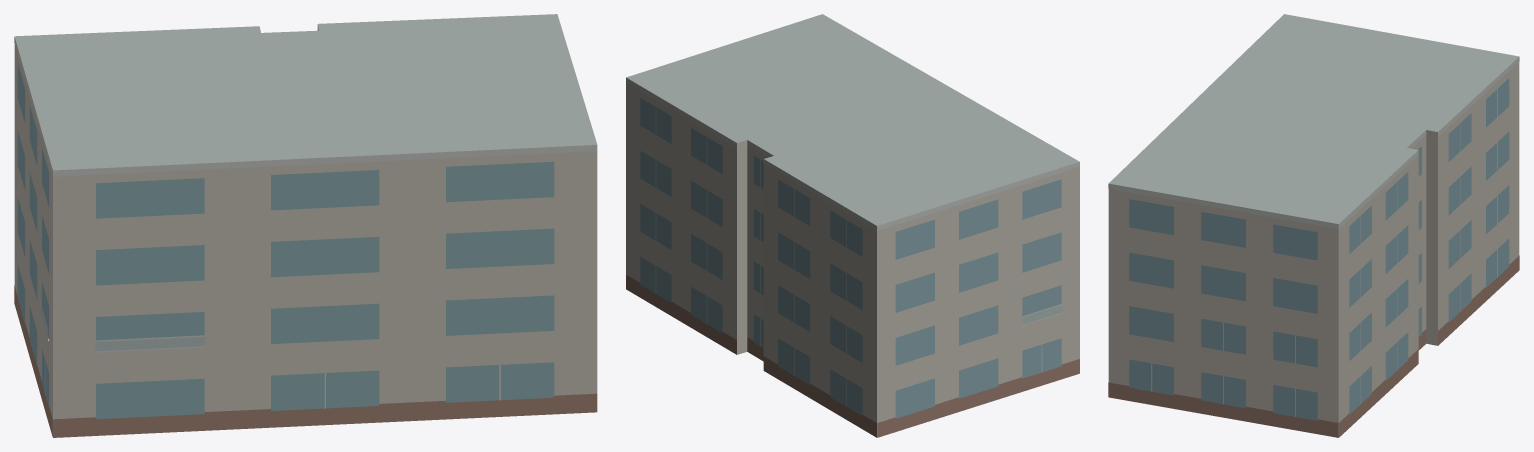
Rendered from survey-upis-32670122.glb.
3 views of the same model, side by side, from view 1: azimuth 30°, elevation 25°; view 2: azimuth 150°, elevation 25°; view 3: azimuth 270°, elevation 25° (orthographic). The views are drawn at different scales.
Parts seen in each view (by area): view 1: survey-upis-32670122.tmp; view 2: survey-upis-32670122.tmp; view 3: survey-upis-32670122.tmp.
Boxes of the visible parts, x1,y1,x2,y2 form: survey-upis-32670122.tmp: [14, 14, 597, 437]; survey-upis-32670122.tmp: [626, 14, 1079, 437]; survey-upis-32670122.tmp: [1108, 14, 1519, 437].
Bounding box in the file's own units: 21.93 × 10.4 × 18.13.
